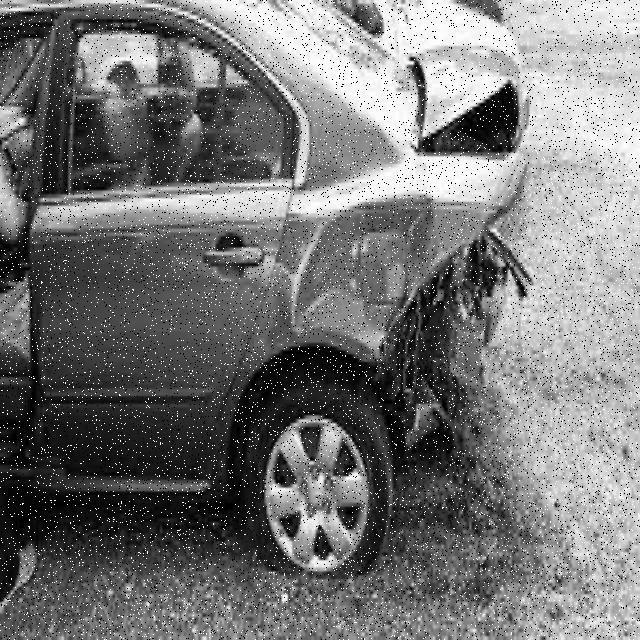quaterpanel-dent: (287, 165, 440, 374)
